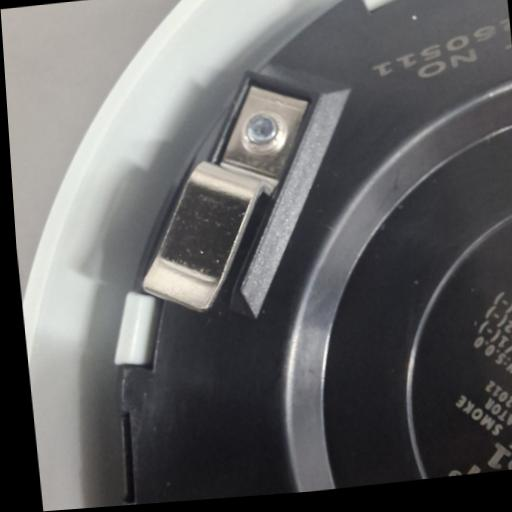yaysiz: (119, 71, 332, 326)
